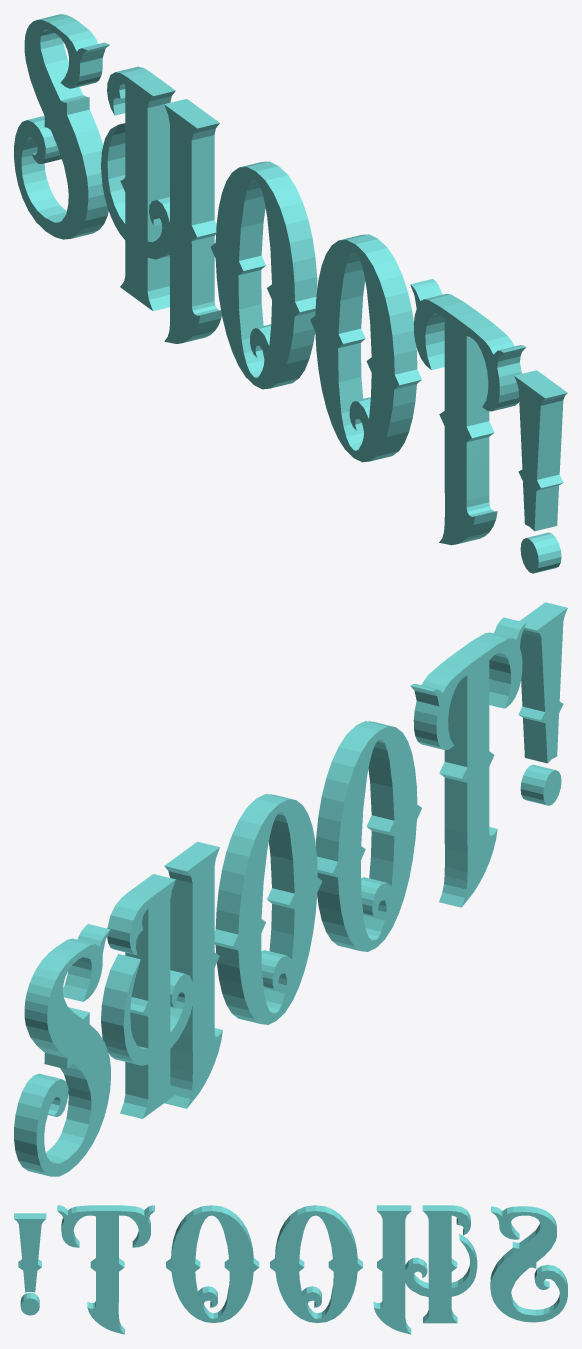
File: ShootText.fbx
3 views of the same model, one above another, from view 1: azimuth 30°, elevation 25°; view 2: azimuth 150°, elevation 25°; view 3: azimuth 270°, elevation 25° (orthographic). The views are drawn at different scales.
Parts seen in each view (by area): view 1: Model Text Moyers - Carnival [15349]; view 2: Model Text Moyers - Carnival [15349]; view 3: Model Text Moyers - Carnival [15349].
Boxes of the visible parts, x1,y1,x2,y2 form: Model Text Moyers - Carnival [15349]: (14, 14, 567, 573); Model Text Moyers - Carnival [15349]: (14, 602, 567, 1176); Model Text Moyers - Carnival [15349]: (14, 1205, 567, 1334).
Bounding box in the file's own units: 5 × 49.94 × 203.
